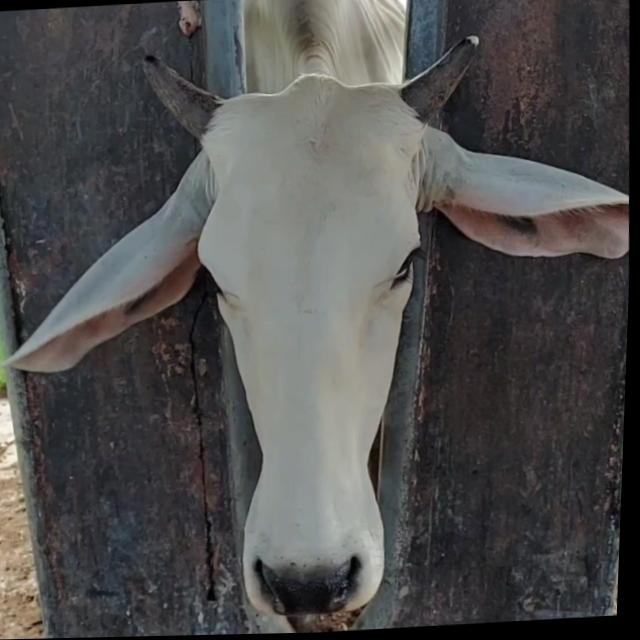cowFace: (181, 69, 435, 621)
